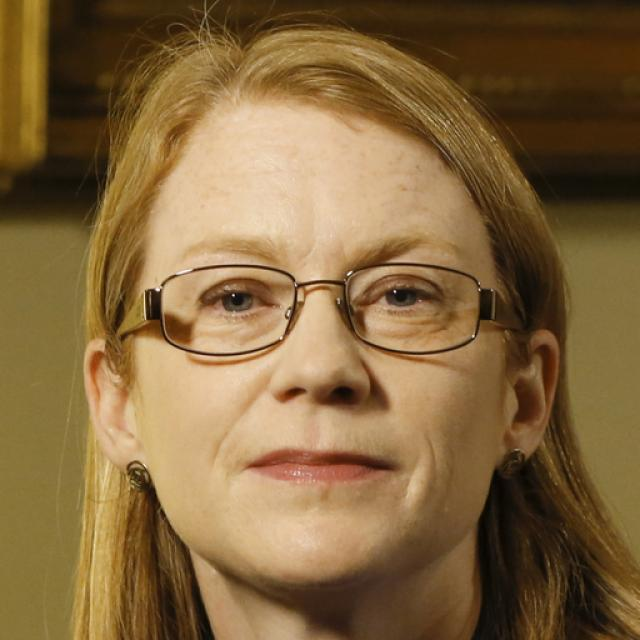neutral: (140, 87, 509, 585)
